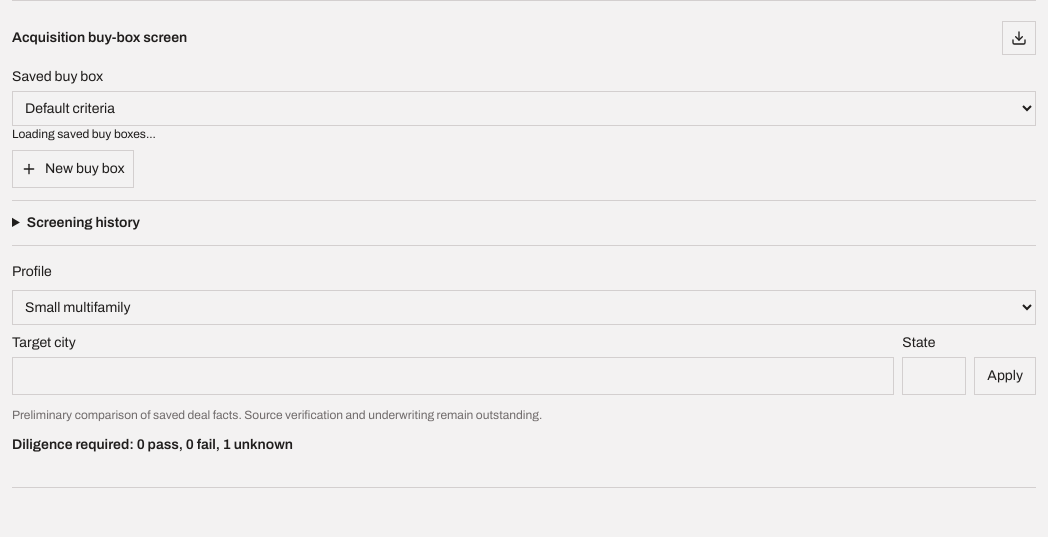
Test: surfaces export failure and hides exports from viewers
The width and height of the screenshot is (1048, 537).
Expected: the text "Diligence required: 0 pass, 0 fail, 1 unknown" is shown, [12,437,293,452]
Click the button named "Download acquisition screen" at (1019, 38), box [1002,21,1036,55]
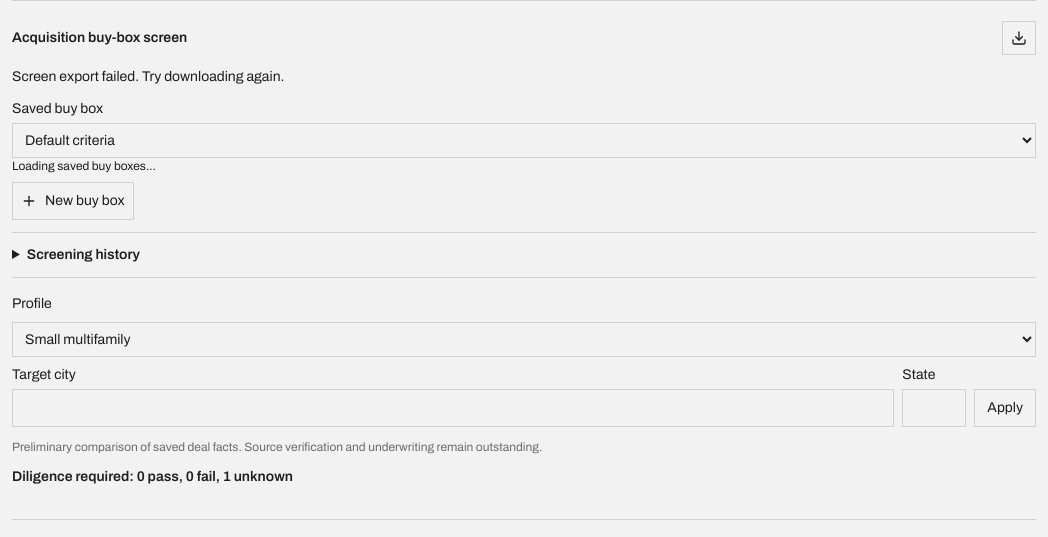
Now the message "Screen export failed. Try downloading again." is shown, box [12,69,284,84]
